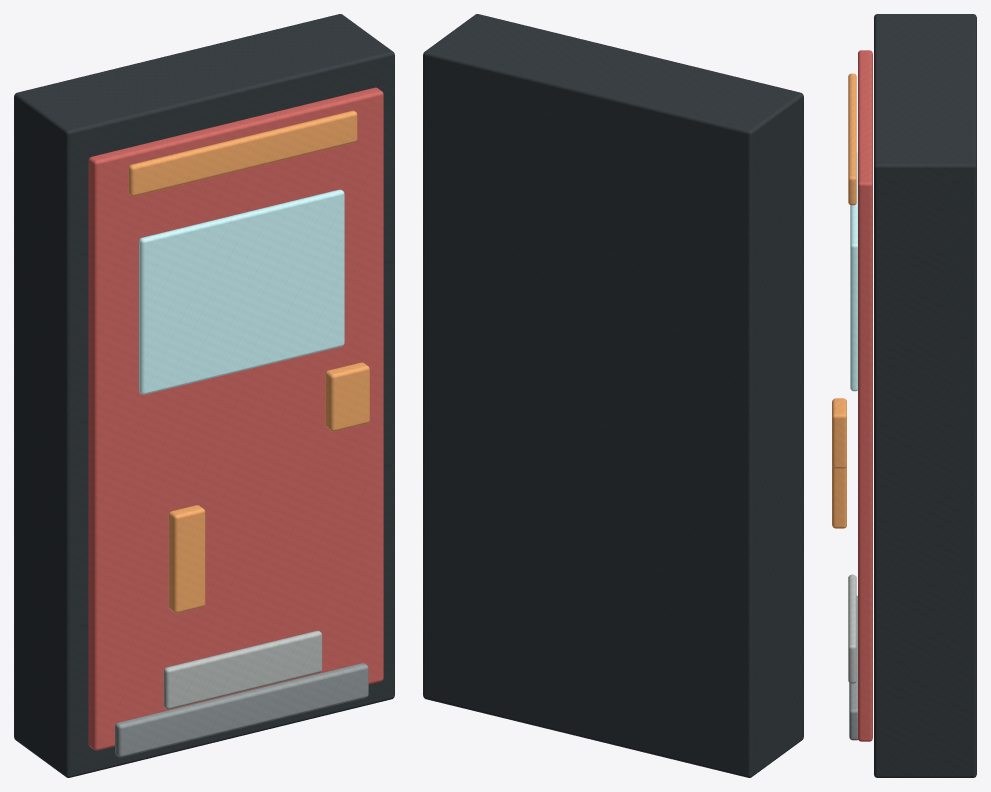
The model's file is FireBlanketCabinet.glb.
3 renders of one model, left to right at view 1: azimuth 30°, elevation 25°; view 2: azimuth 150°, elevation 25°; view 3: azimuth 270°, elevation 25°, orthographic. The views are drawn at different scales.
Visible parts, largest first — view 1: FireBlanketCabinet_Mesh; view 2: FireBlanketCabinet_Mesh; view 3: FireBlanketCabinet_Mesh.
Part boxes in pixels (bbox=[...]): FireBlanketCabinet_Mesh: bbox=[14, 14, 394, 777]; FireBlanketCabinet_Mesh: bbox=[423, 14, 803, 777]; FireBlanketCabinet_Mesh: bbox=[832, 14, 976, 777].
Size of the model in its own units: 0.84 by 1.58 by 0.3375.
Materials: 6 (6 with a texture image).
